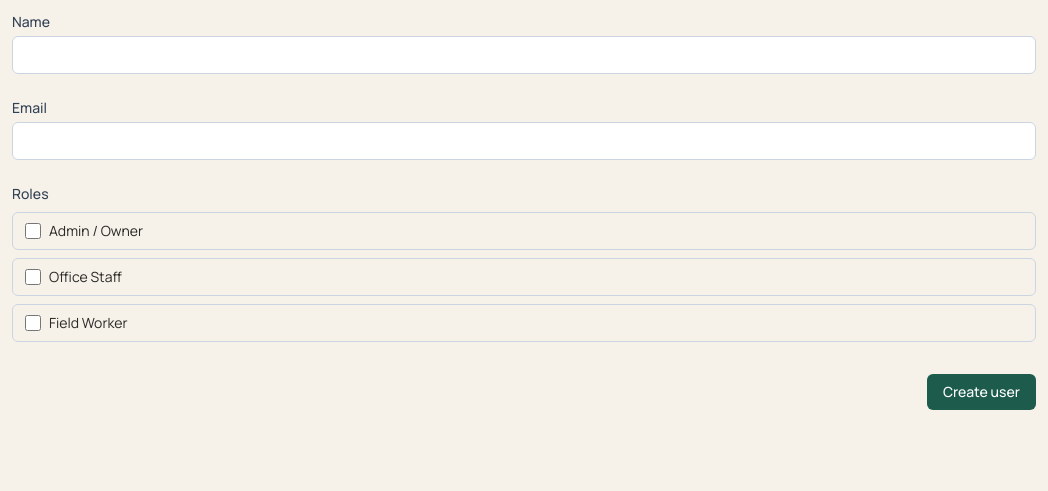
Test: UserForm › requires name, email, and at least one role before submit
Click the button "Create user" at x=981, y=392, box [927, 374, 1036, 410]
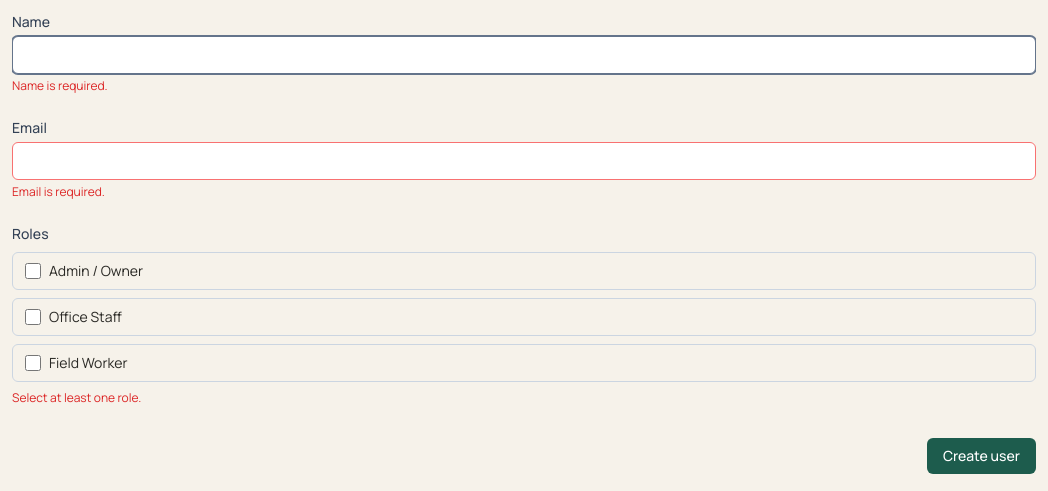
Expected: the text "Name is required." is shown, [12, 77, 108, 94]
